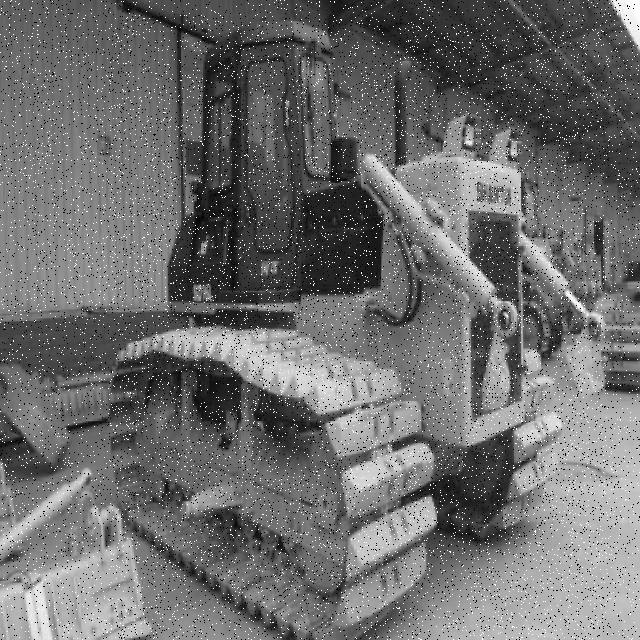Construction Equipment: (109, 20, 609, 640)
